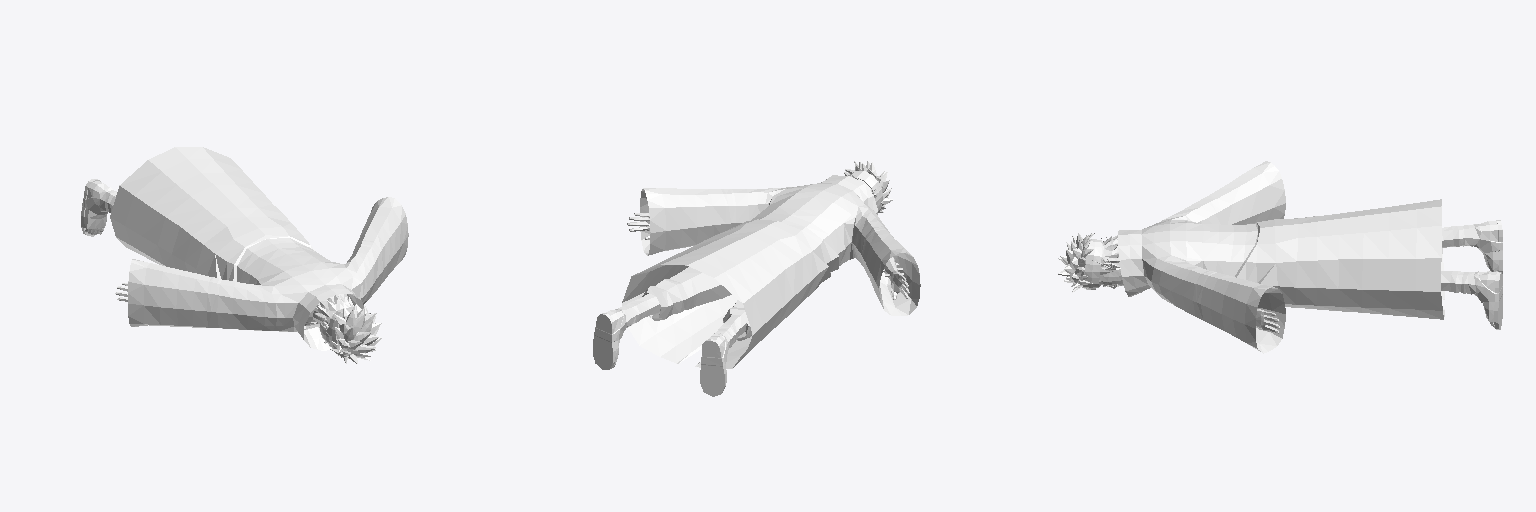
Rendered from pain.obj.
3 renders of one model, left to right at view 1: azimuth 30°, elevation 25°; view 2: azimuth 150°, elevation 25°; view 3: azimuth 270°, elevation 25°, orthographic.
Visible parts, largest first — view 1: _2pef00t0_body_, _2pef00t0_kami_; view 2: _2pef00t0_body_, _2pef00t0_kami_; view 3: _2pef00t0_body_, _2pef00t0_kami_.
Boxes of the visible parts, box(x1,y1,x2,y2) form: _2pef00t0_body_: box(81, 147, 408, 350); _2pef00t0_kami_: box(314, 295, 381, 363); _2pef00t0_body_: box(593, 175, 920, 396); _2pef00t0_kami_: box(844, 161, 892, 212); _2pef00t0_body_: box(1113, 161, 1502, 353); _2pef00t0_kami_: box(1058, 233, 1119, 292).
Bounding box in the file's own units: 140 × 46.86 × 191.